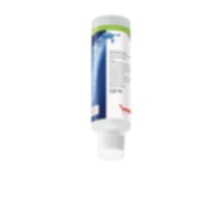cleaning_solution: (86, 12, 133, 163)
